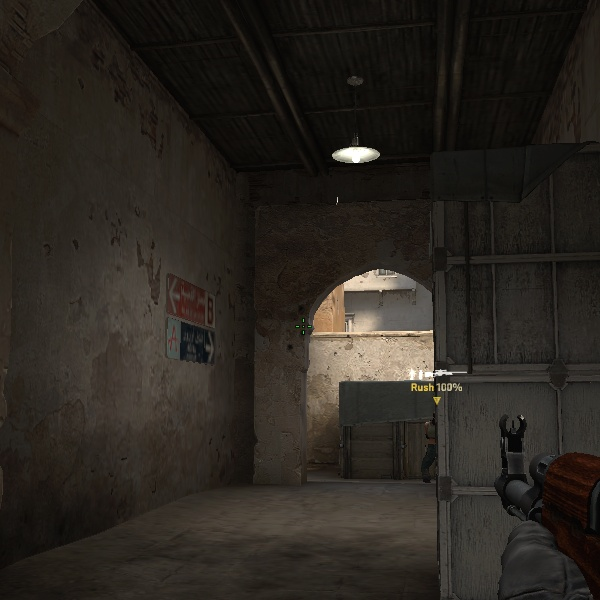t_body: (420, 409, 438, 485)
